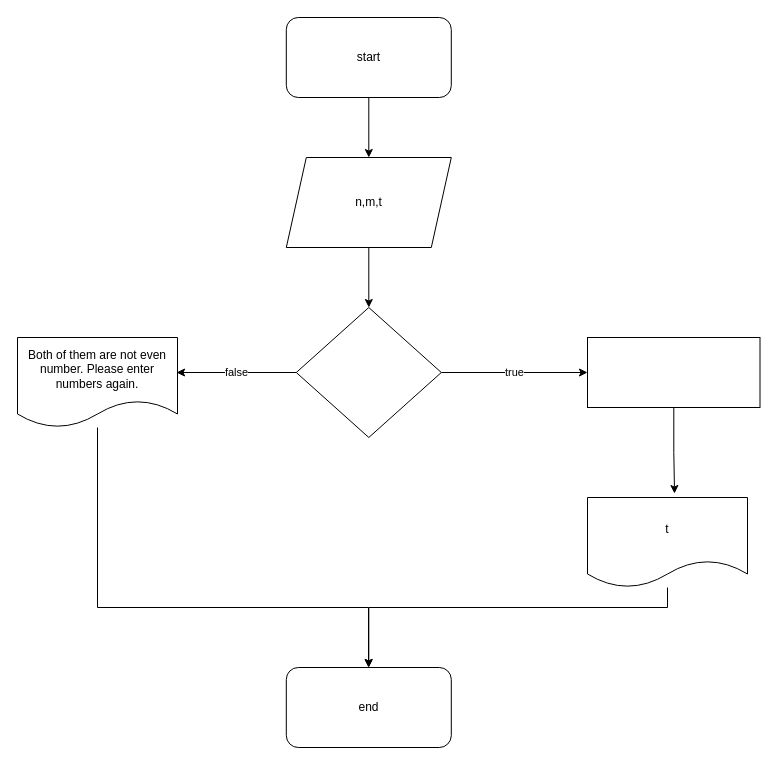
Image size: 778x765. Some labels were removed from this diagram. Each missing label, with the box of its shape:
n % 2==0 && m % 2==0: (295, 306, 441, 438)
t=n+m: (586, 336, 760, 408)
